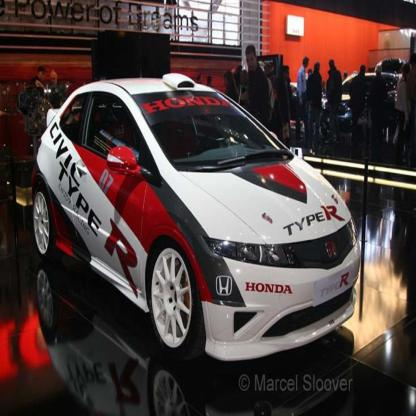face: (247, 54, 255, 70), (52, 74, 57, 85), (41, 72, 46, 80), (287, 70, 289, 76), (307, 62, 309, 67)
